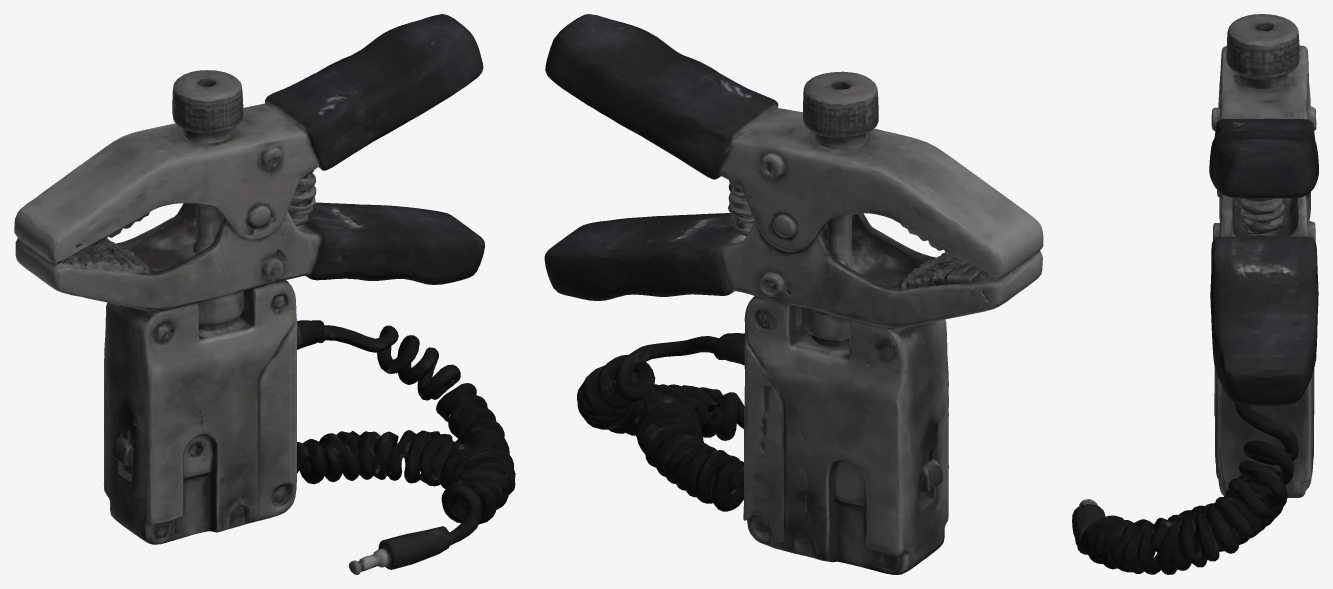
3 renders of one model, left to right at view 1: azimuth 30°, elevation 25°; view 2: azimuth 150°, elevation 25°; view 3: azimuth 270°, elevation 25°, orthographic. The views are drawn at different scales.
Parts seen in each view (by area): view 1: geometry_0; view 2: geometry_0; view 3: geometry_0.
Boxes of the visible parts, bbox=[...] form: geometry_0: bbox=[14, 14, 515, 574]; geometry_0: bbox=[544, 14, 1043, 574]; geometry_0: bbox=[1072, 14, 1318, 574].
Size of the model in its own units: 0.18 by 0.176 by 0.086.
Materials: 1 (1 with a texture image).
